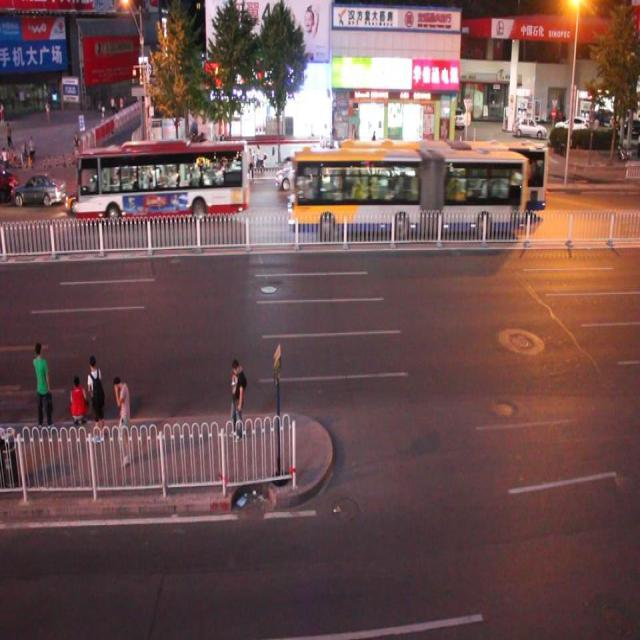car: (276, 152, 337, 194), (491, 159, 541, 210), (67, 174, 121, 218), (194, 158, 242, 206), (15, 173, 66, 207), (1, 165, 18, 200)
van: (289, 148, 525, 240), (333, 136, 546, 214), (71, 139, 251, 222)
